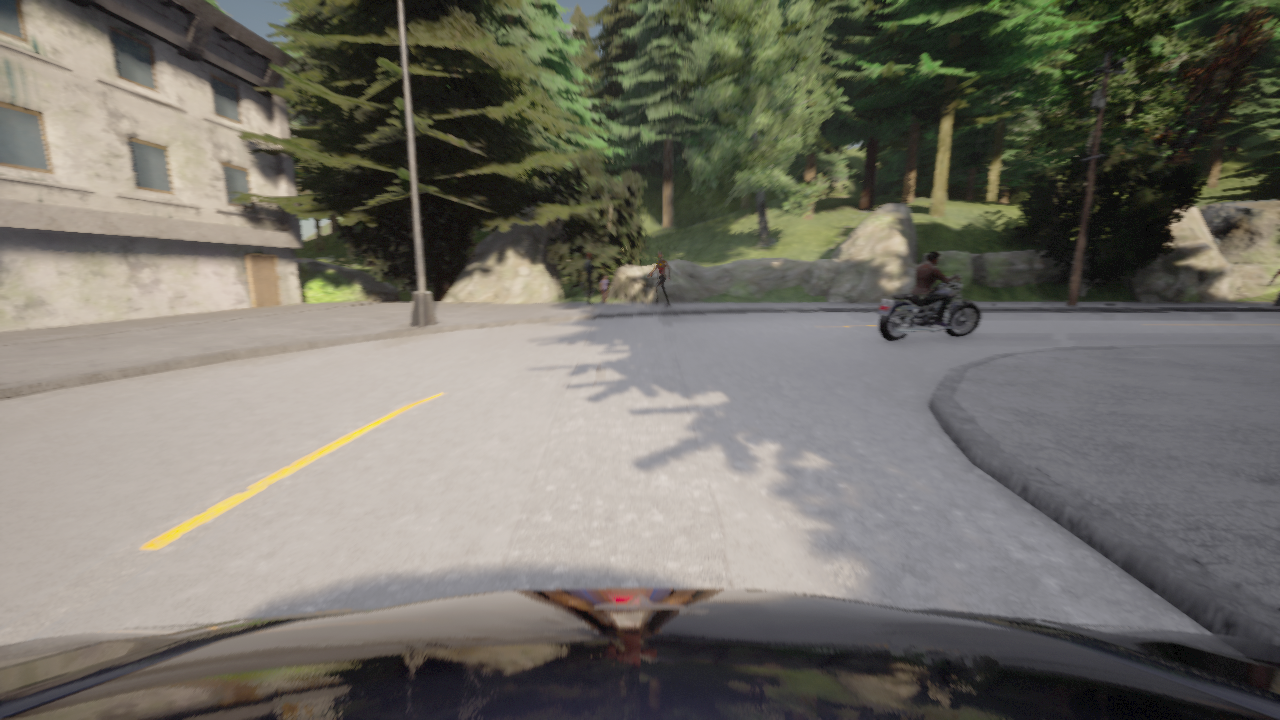cyclist: (0, 588, 1279, 719), (877, 274, 980, 341)
pedestrian: (648, 251, 670, 306), (1270, 268, 1279, 284)
